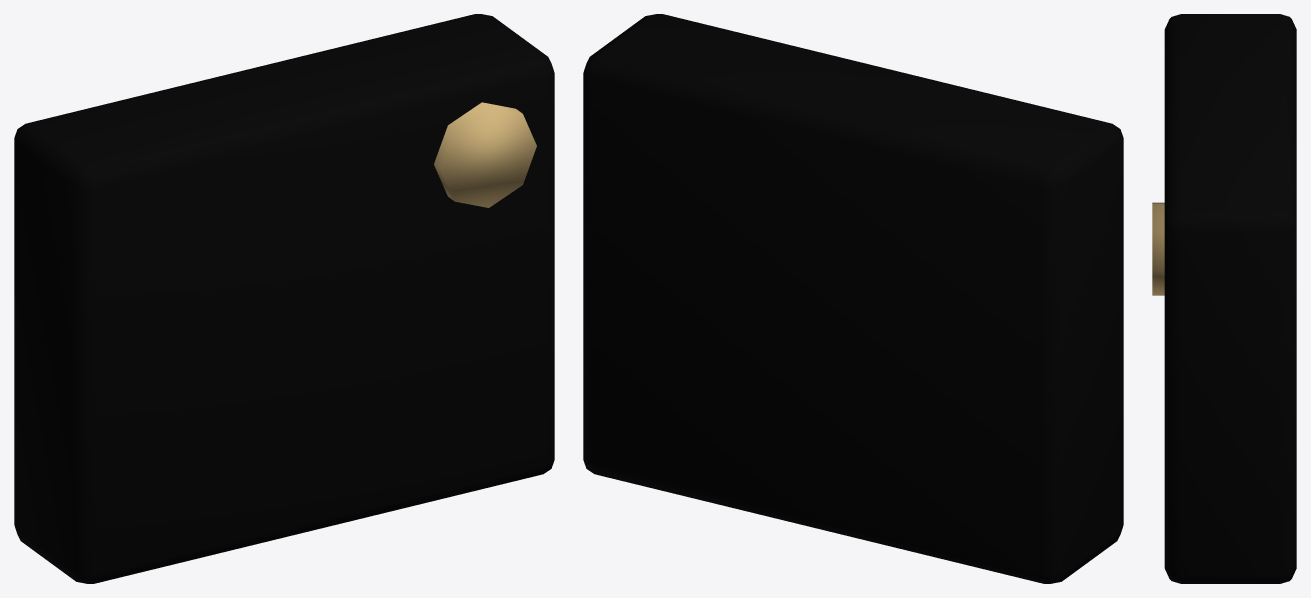
Rendered from imu.obj.
3 renders of one model, left to right at view 1: azimuth 30°, elevation 25°; view 2: azimuth 150°, elevation 25°; view 3: azimuth 270°, elevation 25°, orthographic. The views are drawn at different scales.
Visible parts, largest first — view 1: imu; view 2: imu; view 3: imu.
Part boxes in pixels (bbox=[...]): imu: bbox=[14, 14, 554, 583]; imu: bbox=[583, 14, 1123, 583]; imu: bbox=[1152, 14, 1296, 583].
Size of the model in its own units: 0.03 by 0.025 by 0.00875.
